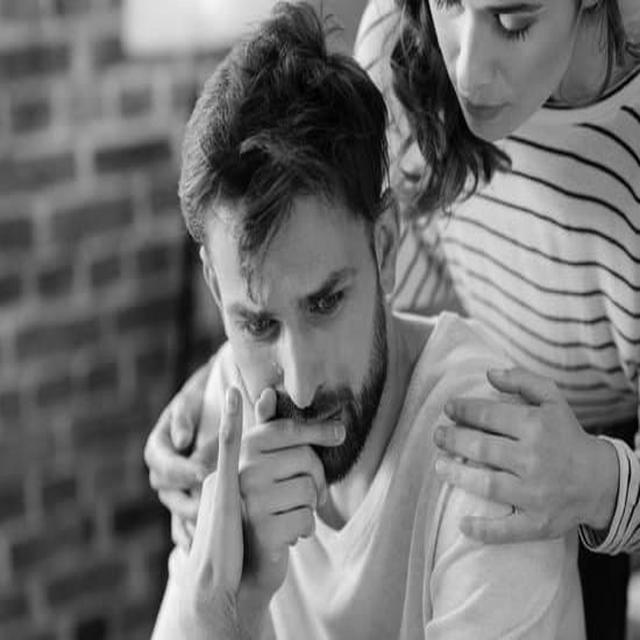Sadness: (222, 204, 366, 483)
